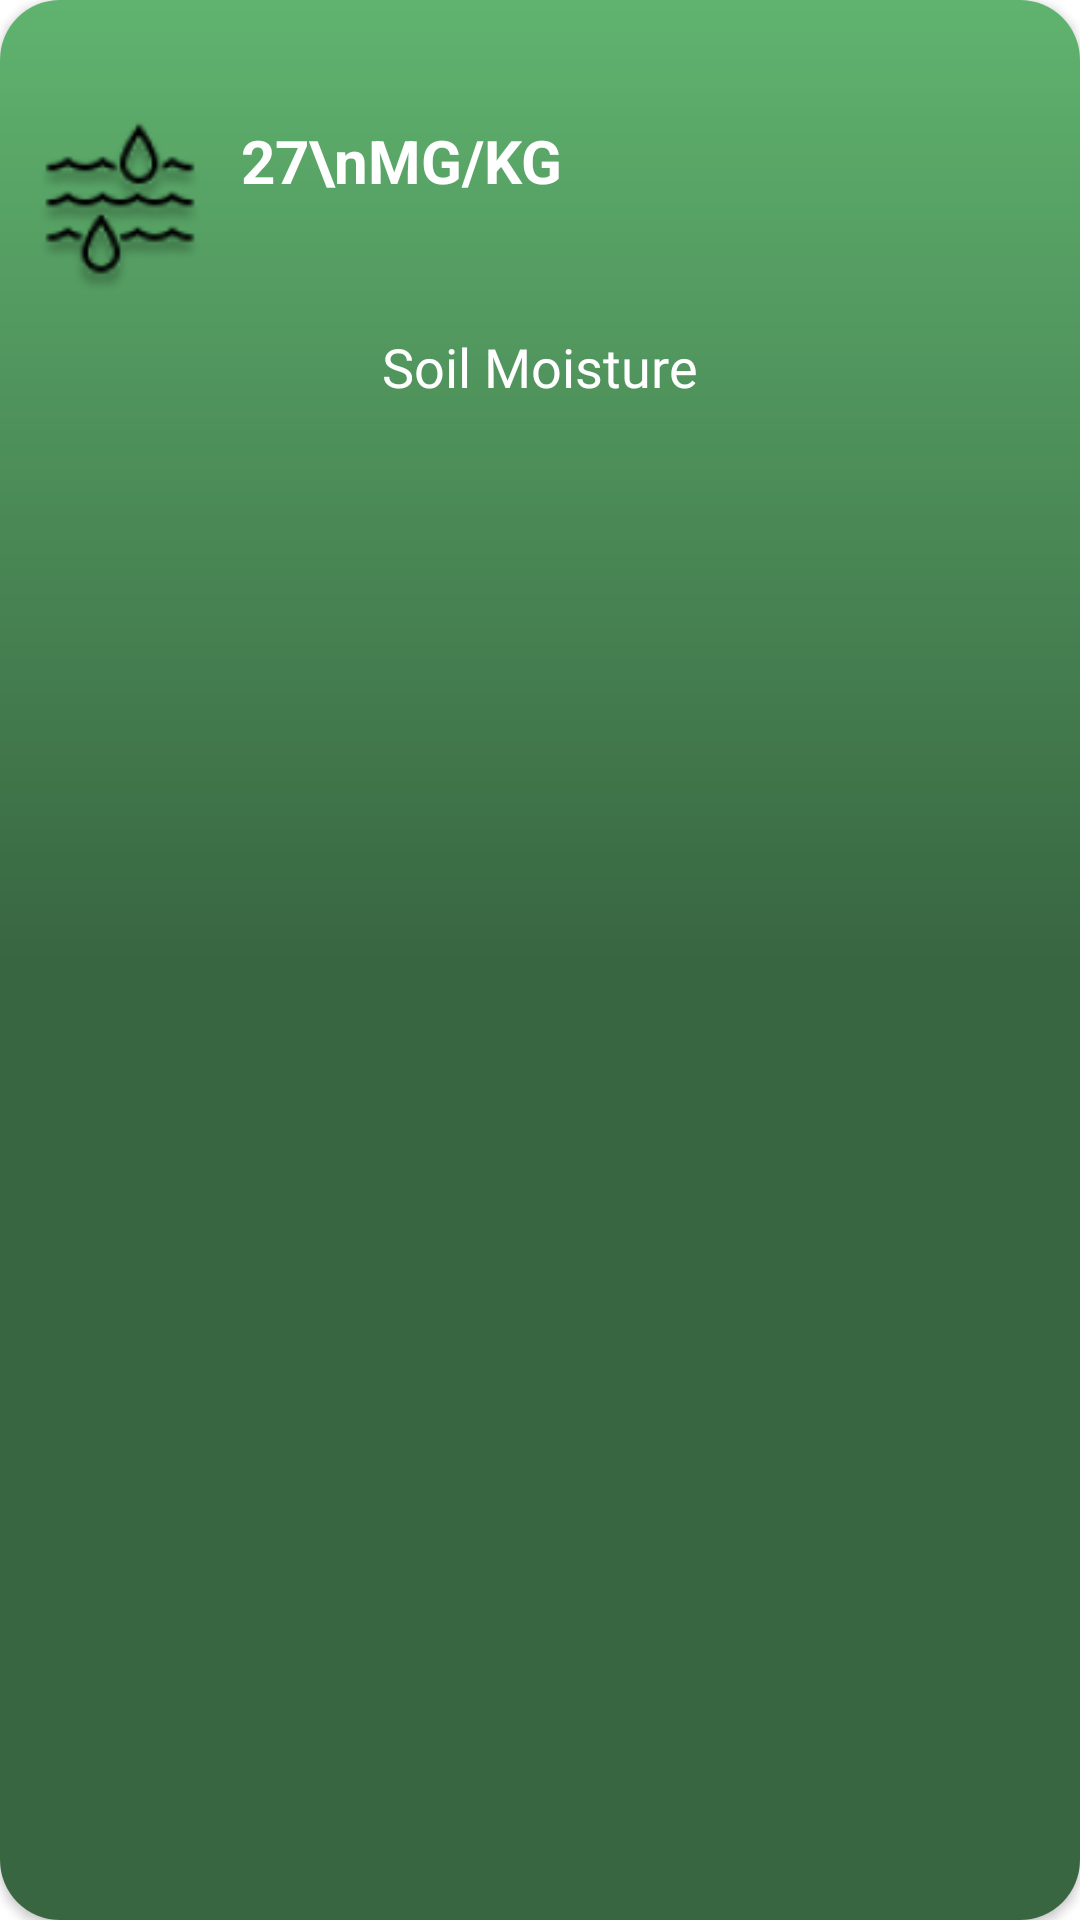

Point at icon controls on the screen. Image size 1080w x 1920h, points as (x=x, y=y).
moisture: (x=120, y=202)
